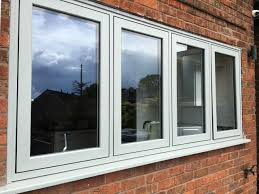Window: (26, 20, 103, 160), (119, 34, 162, 146), (176, 47, 206, 138), (215, 56, 239, 133)
